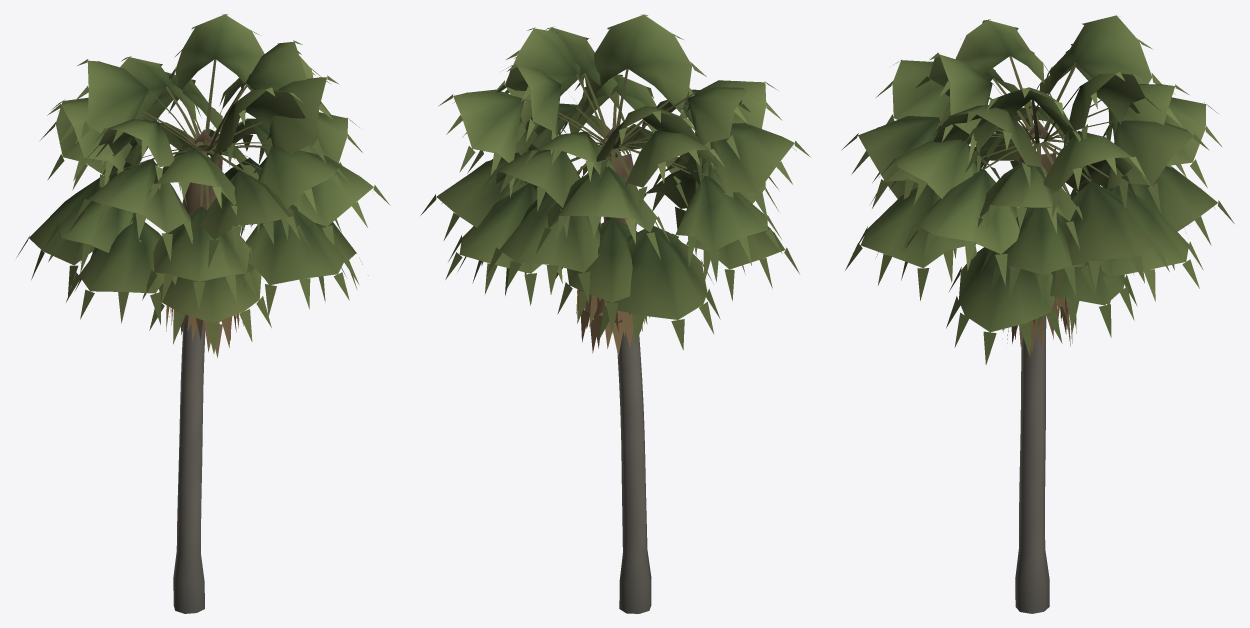
The model's file is sabal-palmetto.glb.
3 views of the same model, side by side, from view 1: azimuth 30°, elevation 25°; view 2: azimuth 150°, elevation 25°; view 3: azimuth 270°, elevation 25° (orthographic). The views are drawn at different scales.
Parts seen in each view (by area): view 1: SabalPalmetto; view 2: SabalPalmetto; view 3: SabalPalmetto.
Part boxes in pixels (x1,y1,x2,y2): SabalPalmetto: [16, 14, 390, 613]; SabalPalmetto: [420, 14, 810, 613]; SabalPalmetto: [841, 15, 1234, 613].
Size of the model in its own units: 6.02 by 10 by 6.24.
